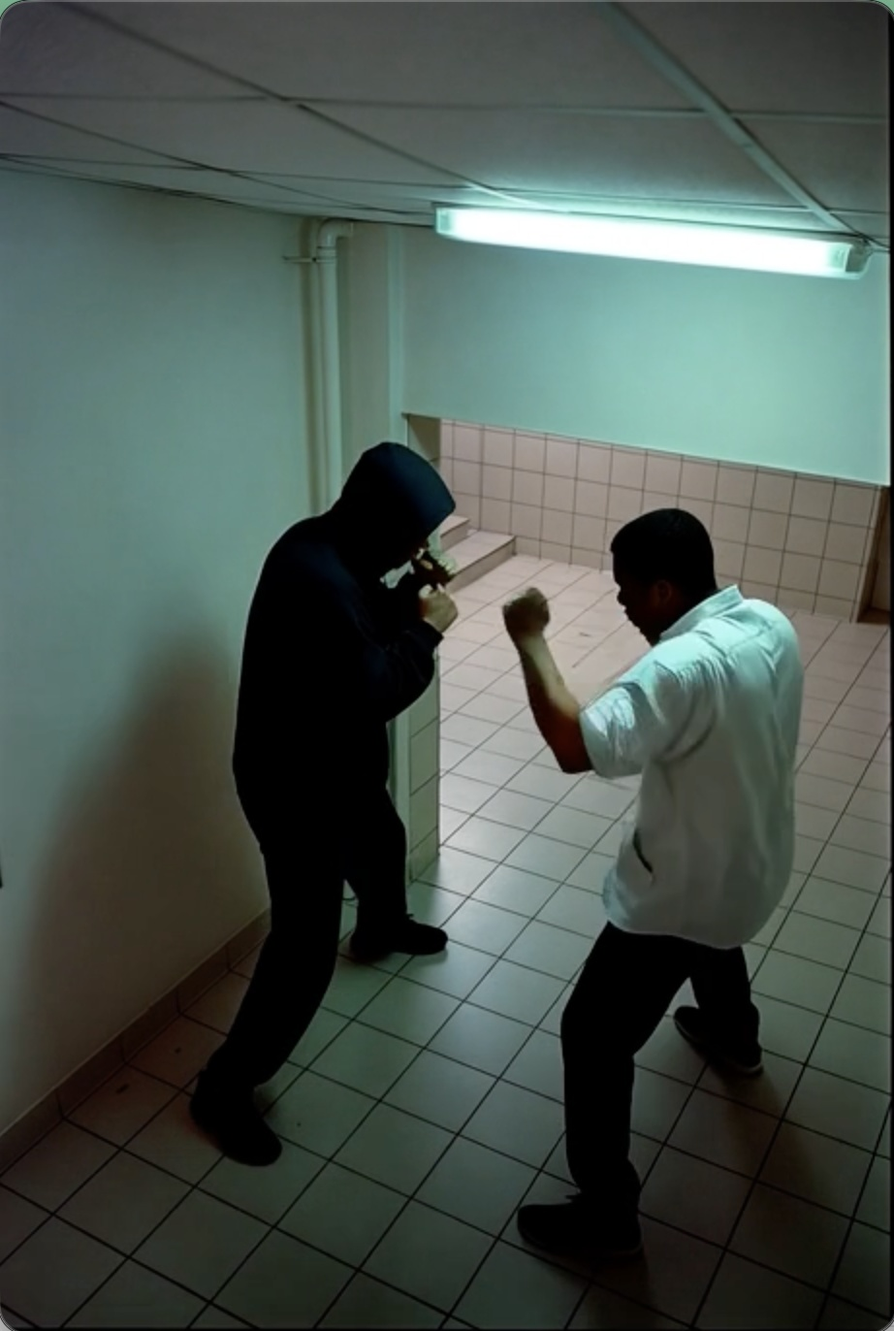Assault: (187, 442, 469, 1170)
Fighting: (500, 508, 805, 1257)
